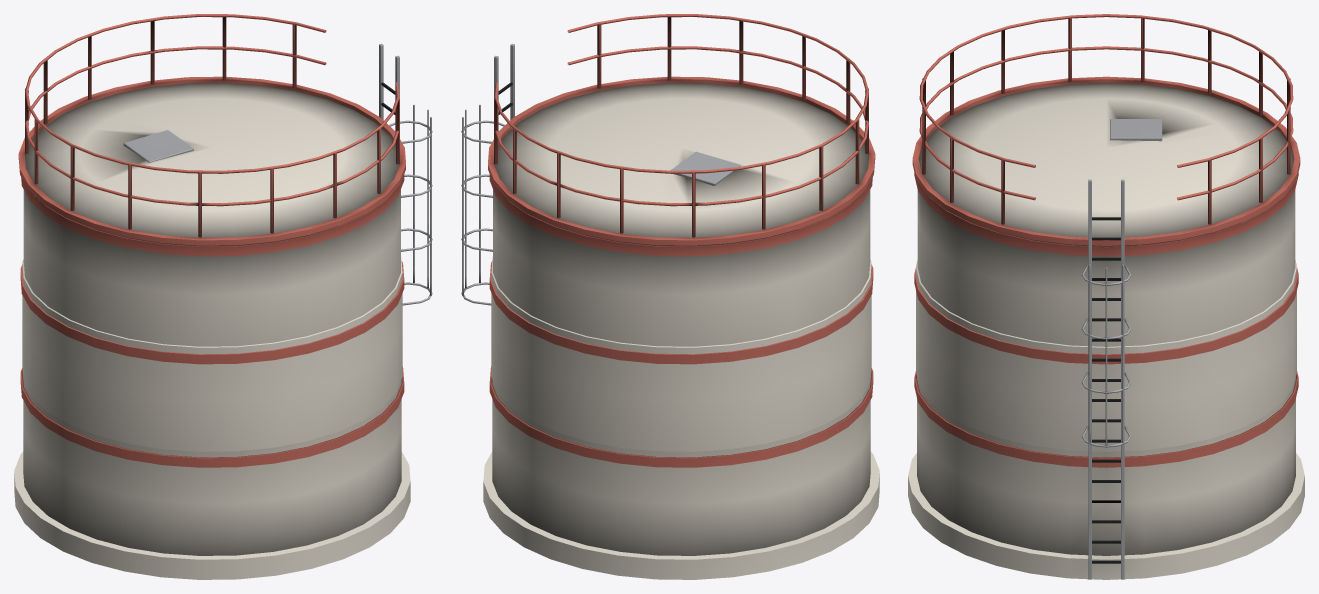
Rendered from silo.glb.
3 views of the same model, side by side, from view 1: azimuth 30°, elevation 25°; view 2: azimuth 150°, elevation 25°; view 3: azimuth 270°, elevation 25° (orthographic).
Parts seen in each view (by area): view 1: PART; view 2: PART; view 3: PART.
Part boxes in pixels (x1=…): PART: x1=14, y1=14, x2=432, y2=579; PART: x1=461, y1=14, x2=879, y2=579; PART: x1=908, y1=14, x2=1304, y2=579.
Bounding box in the file's own units: 6.04 × 5.99 × 5.34.
